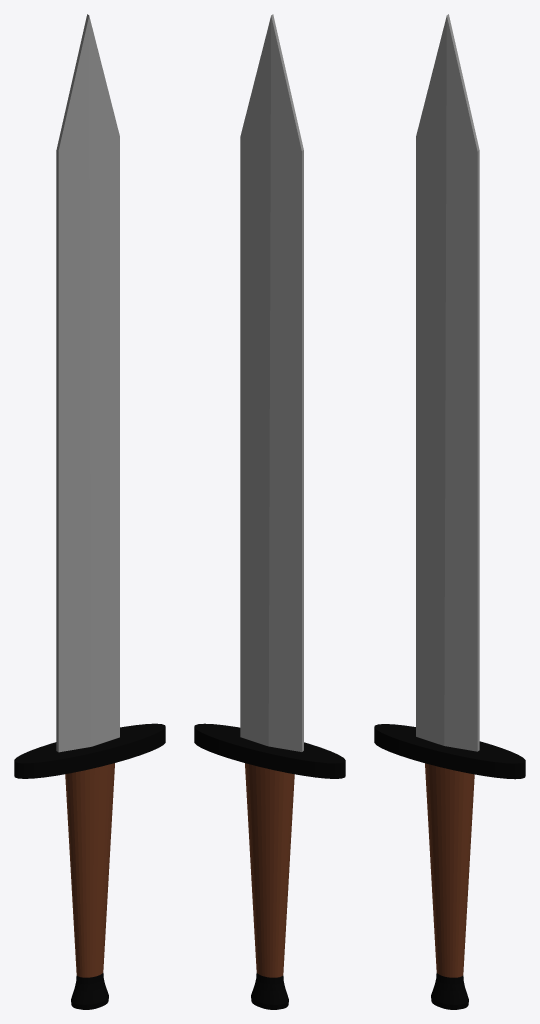
File: ASSETS.fbx_normalsword.fbx
The picture shows the model from 3 angles, left to right: view 1: azimuth 30°, elevation 25°; view 2: azimuth 150°, elevation 25°; view 3: azimuth 330°, elevation 25°; orthographic projection.
Visible parts, largest first — view 1: sorceleur; view 2: sorceleur; view 3: sorceleur.
Part boxes in pixels (x1,y1,x2,y2): sorceleur: [14, 14, 165, 1009]; sorceleur: [194, 14, 345, 1009]; sorceleur: [374, 14, 525, 1009].
Bounding box in the file's own units: 16.16 × 102 × 3.91.
